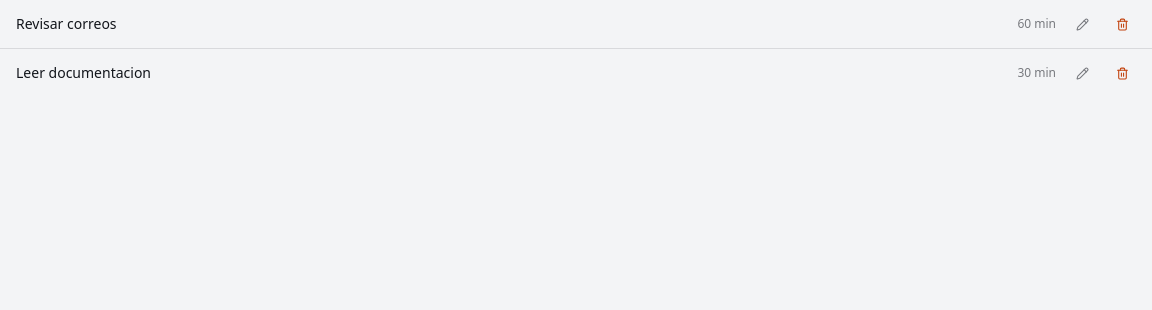
EntryList edit flow › keeps only one form open at a time when editing another row
Click the button named "Editar" in the row of "Revisar correos" at (1082, 24), box [1068,10,1096,38]
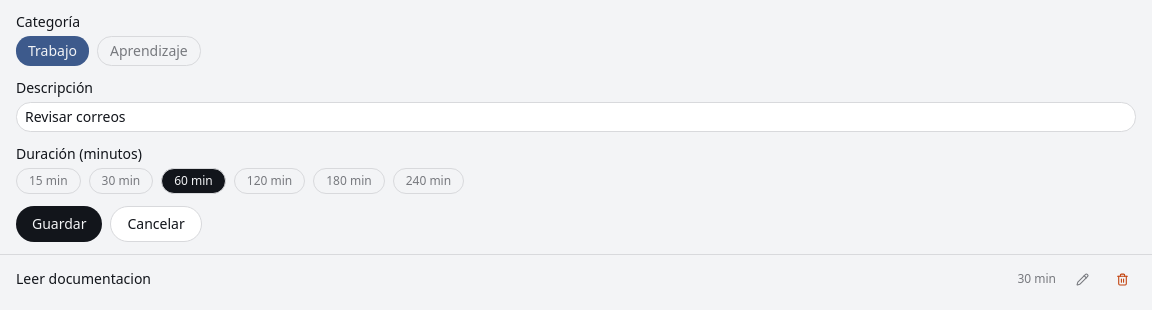
Expected: the field labelled "Descripción" holds "Revisar correos", [16,102,1136,132]
Click the button named "Editar" at (1082, 279), box [1068,265,1096,293]
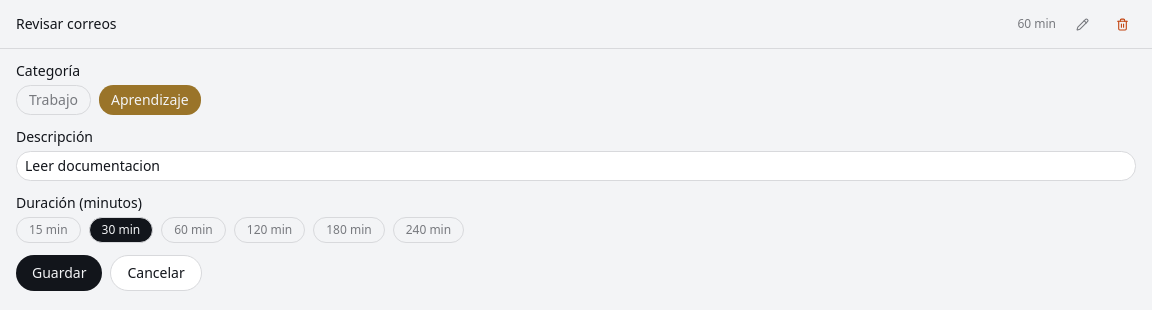
Expected: the number of forms named "Editar entrada" is 1
Expected: the field labelled "Descripción" holds "Leer documentacion", [16,151,1136,181]
